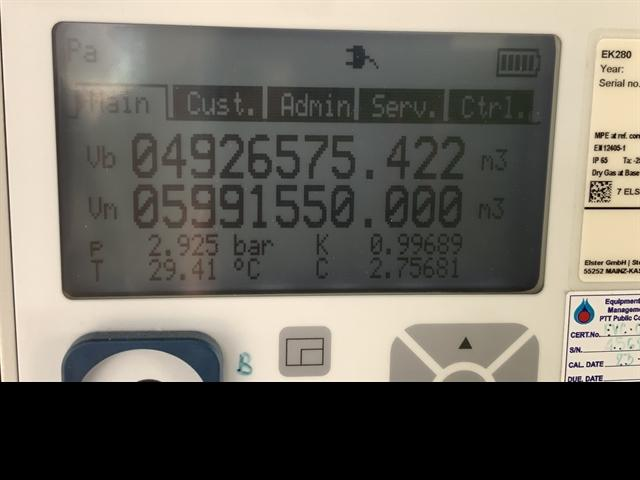digital_screen: (52, 25, 560, 302)
